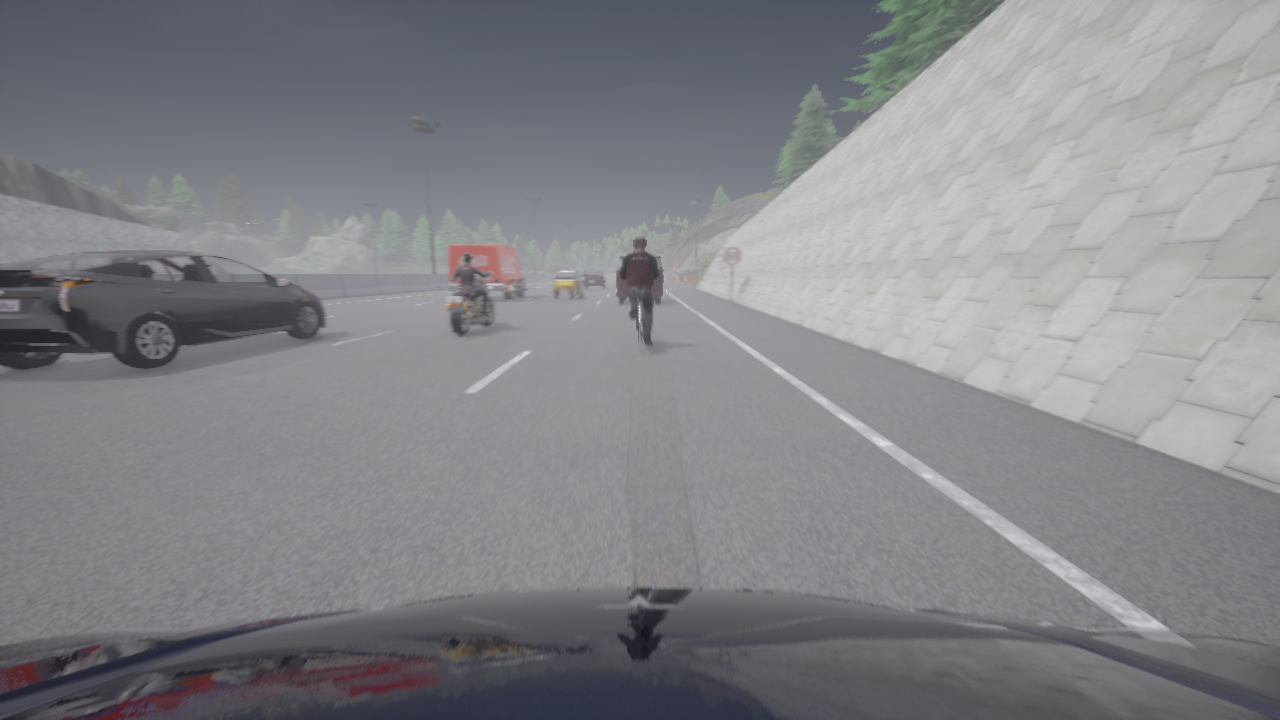cyclist: (0, 588, 1279, 719), (0, 251, 325, 368), (448, 244, 528, 299), (446, 270, 494, 335), (617, 254, 662, 303), (632, 298, 650, 351), (554, 270, 583, 299), (581, 269, 608, 289)
